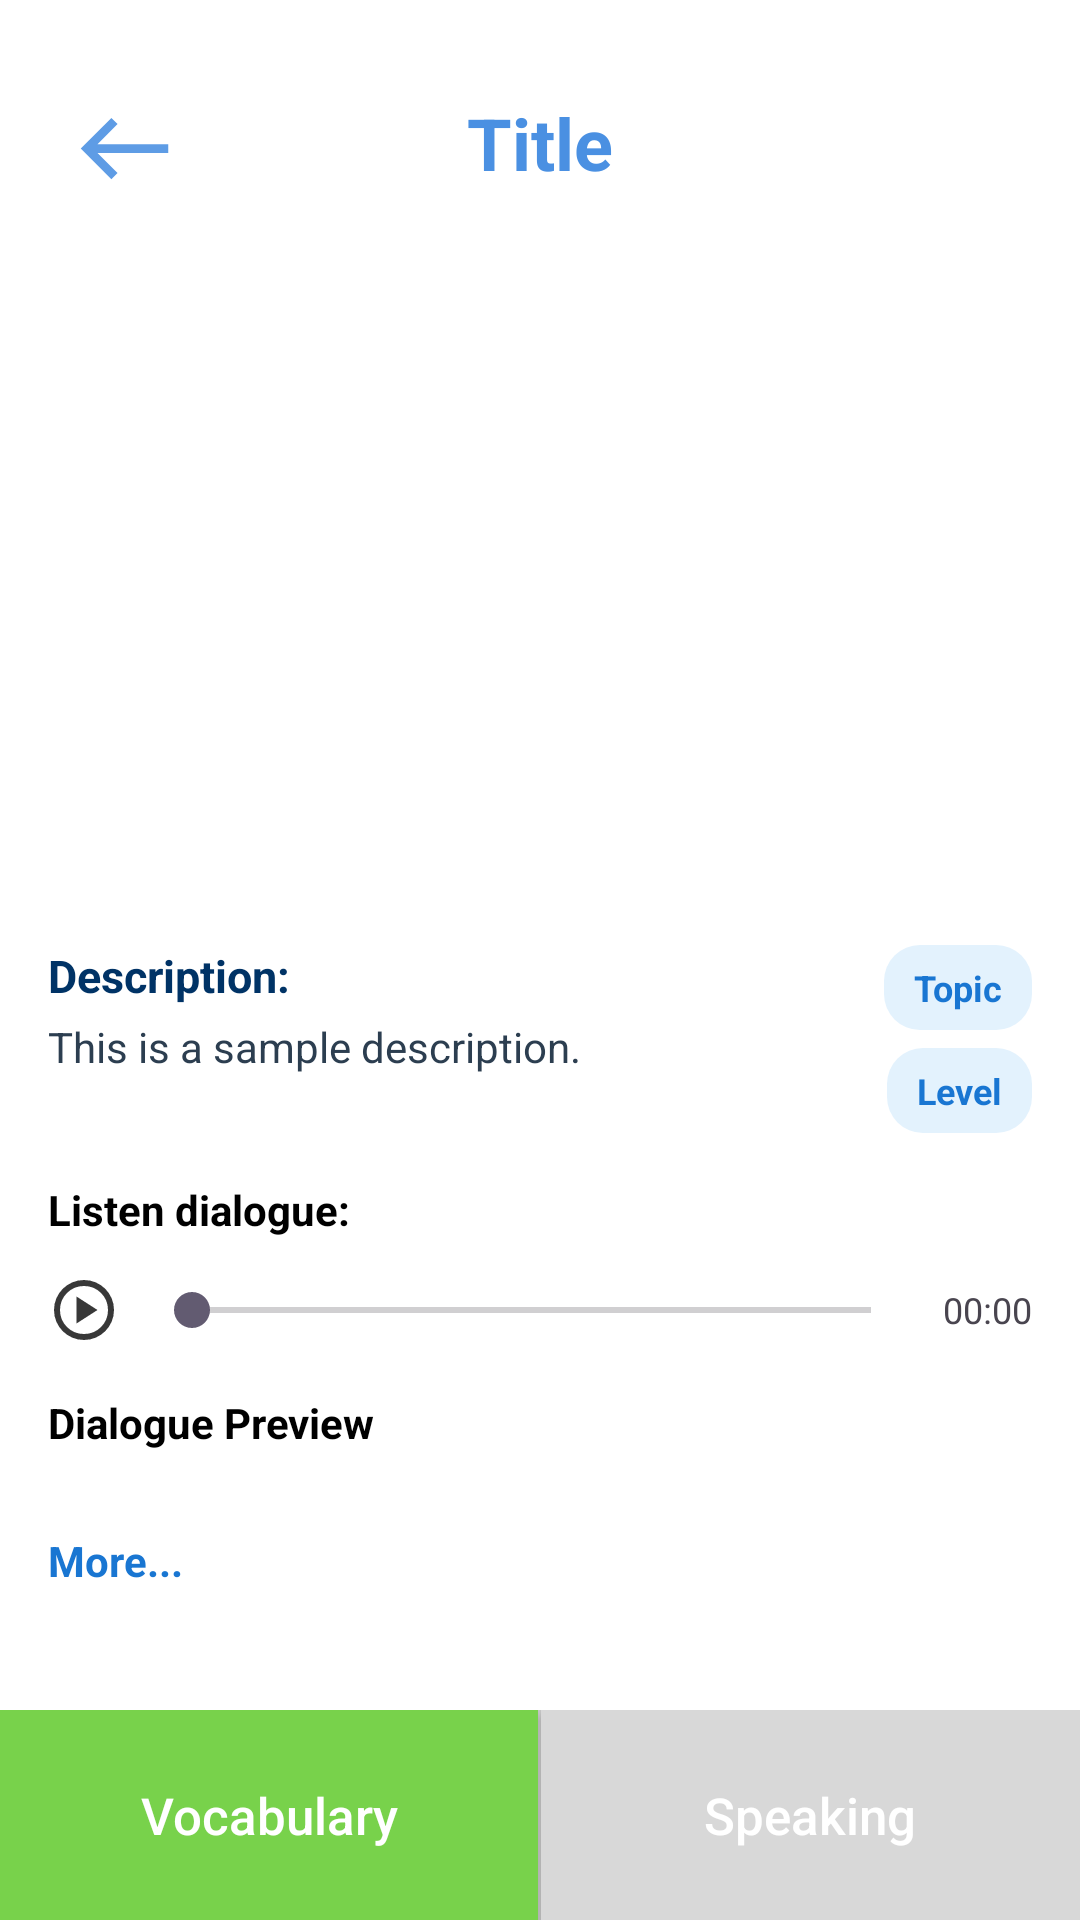

Where to tap for icons on this 1080 × 1920 app screen, as (x=x, y=y):
arrow back: (x=125, y=148)
Play: (x=84, y=1310)
